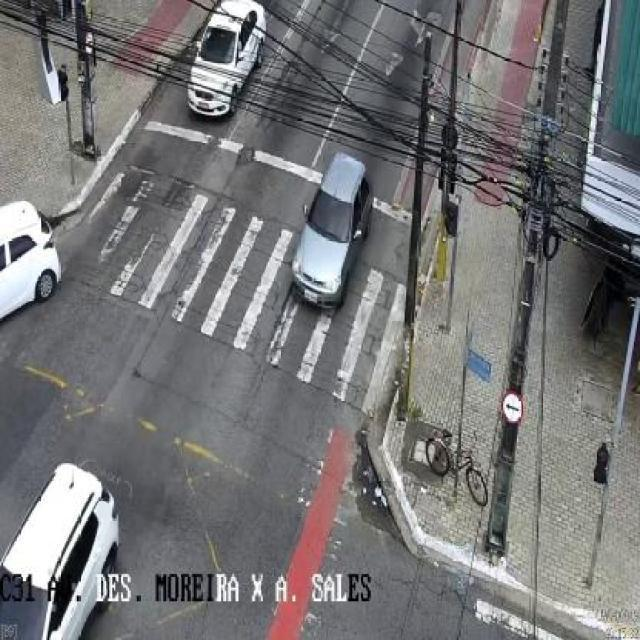Car: (0, 454, 141, 640), (282, 144, 378, 313), (178, 0, 264, 138), (0, 166, 67, 339)
